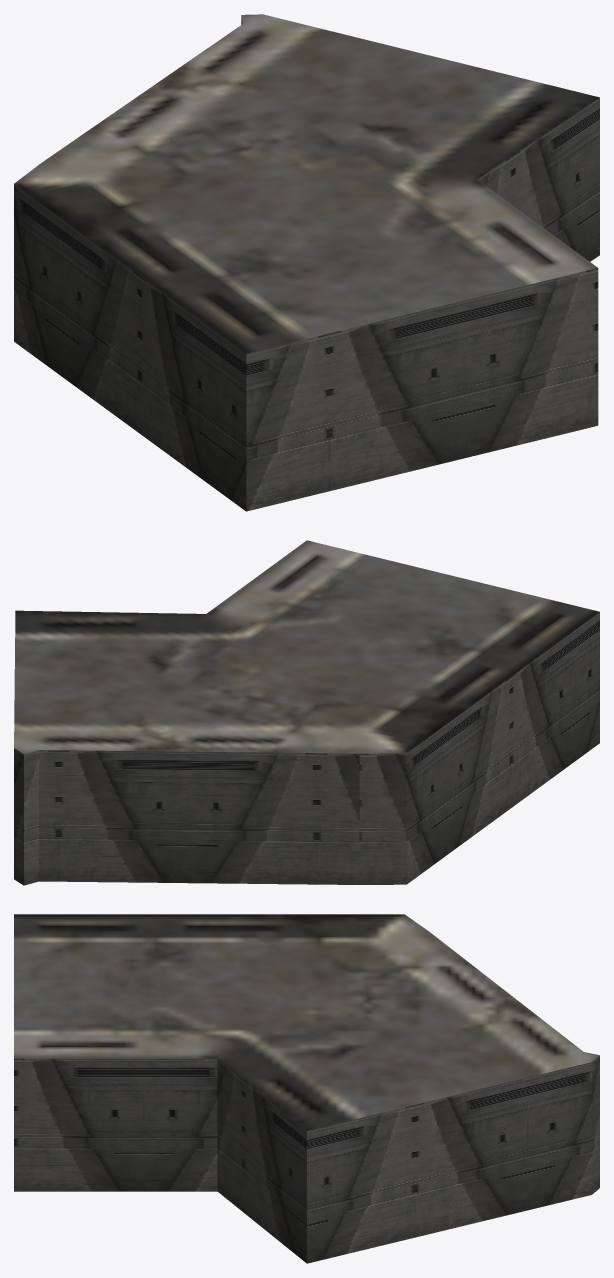
Rendered from fortress_light_10.glb.
3 views of the same model, one above another, from view 1: azimuth 30°, elevation 25°; view 2: azimuth 150°, elevation 25°; view 3: azimuth 270°, elevation 25° (orthographic). The views are drawn at different scales.
Parts seen in each view (by area): view 1: buildings/saxarba/fortress_light/fortress_light_10; view 2: buildings/saxarba/fortress_light/fortress_light_10; view 3: buildings/saxarba/fortress_light/fortress_light_10.
Boxes of the visible parts, x1,y1,x2,y2 form: buildings/saxarba/fortress_light/fortress_light_10: [14, 14, 599, 511]; buildings/saxarba/fortress_light/fortress_light_10: [14, 540, 599, 885]; buildings/saxarba/fortress_light/fortress_light_10: [14, 914, 599, 1263].
Size of the model in its own units: 63 by 18 by 72.
